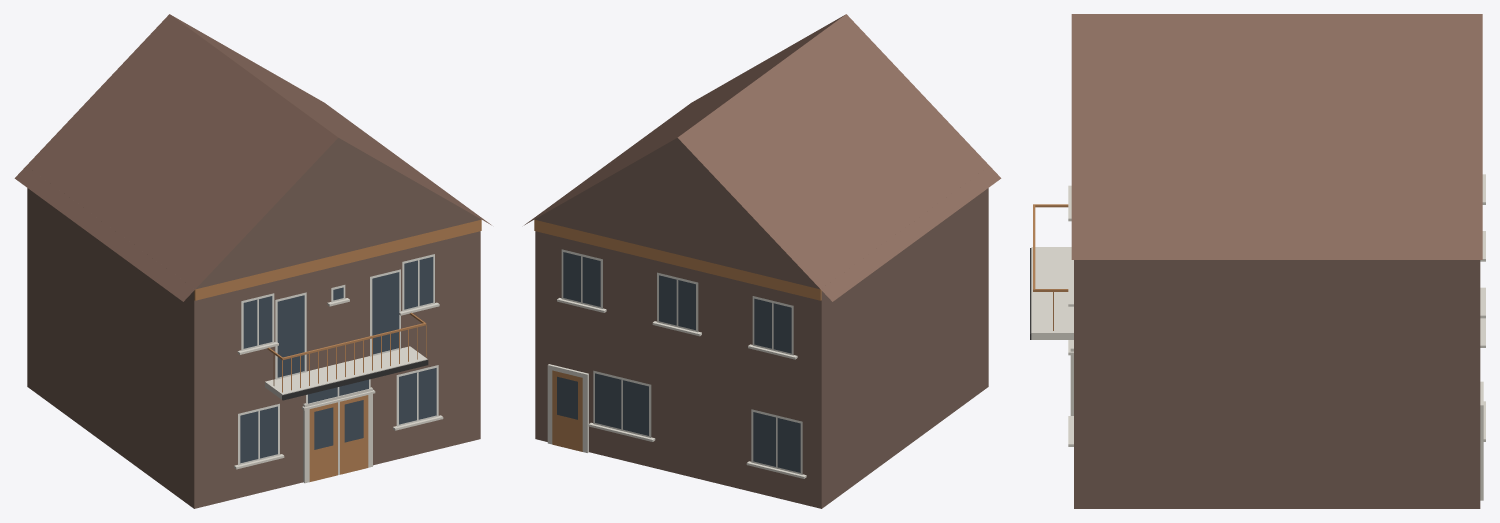
File: oo-ta-centre__orange__2__gable__short__solid.glb
3 renders of one model, left to right at view 1: azimuth 30°, elevation 25°; view 2: azimuth 150°, elevation 25°; view 3: azimuth 270°, elevation 25°, orthographic. The views are drawn at different scales.
Visible parts, largest first — view 1: oo-ta-centre__orange__2__gable__short__solid; view 2: oo-ta-centre__orange__2__gable__short__solid; view 3: oo-ta-centre__orange__2__gable__short__solid.
Part boxes in pixels (x1=…): oo-ta-centre__orange__2__gable__short__solid: x1=14, y1=14, x2=491, y2=508; oo-ta-centre__orange__2__gable__short__solid: x1=524, y1=14, x2=1001, y2=508; oo-ta-centre__orange__2__gable__short__solid: x1=1030, y1=14, x2=1485, y2=508.
Size of the model in its own units: 9.18 by 9.54 by 9.61.
